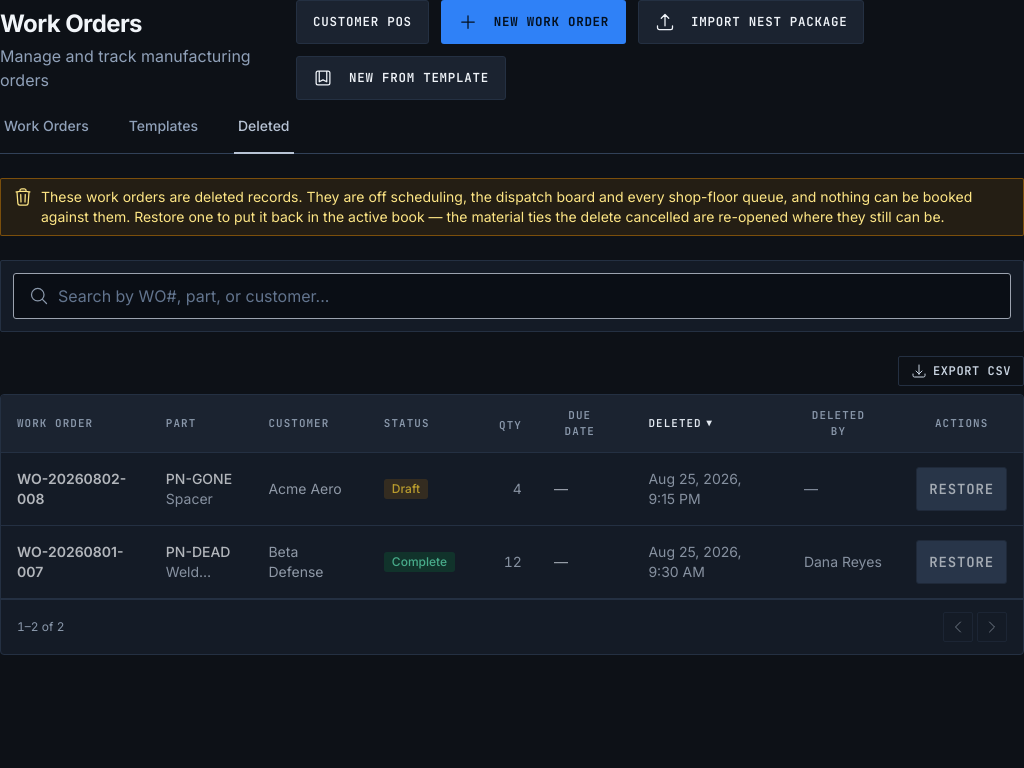
Scenario: WorkOrders: restoring is confirmed, non-optimistic, and honest about partials › discloses the terminal-status consequence BEFORE the click, in the dialog
Click the button with aria-label "Restore work order WO-20260801-007" at (962, 562), box [916,540,1007,584]
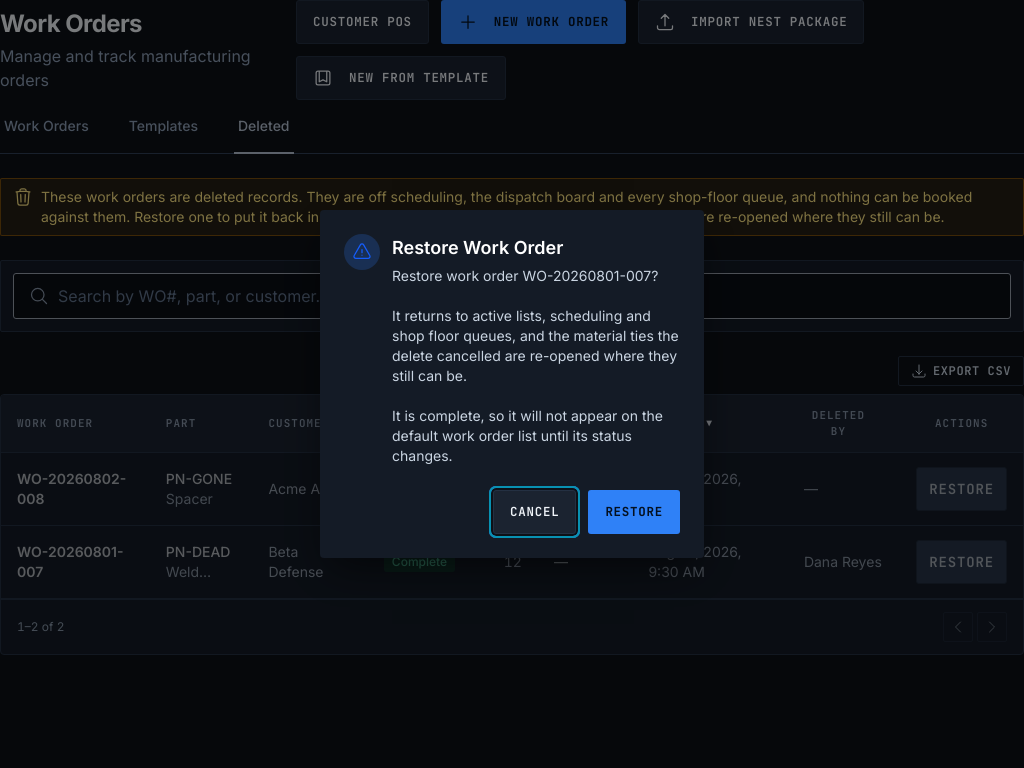
Check: the dialog shows "it is complete, so it will not appear on the default work order list", box [392,267,679,464]
